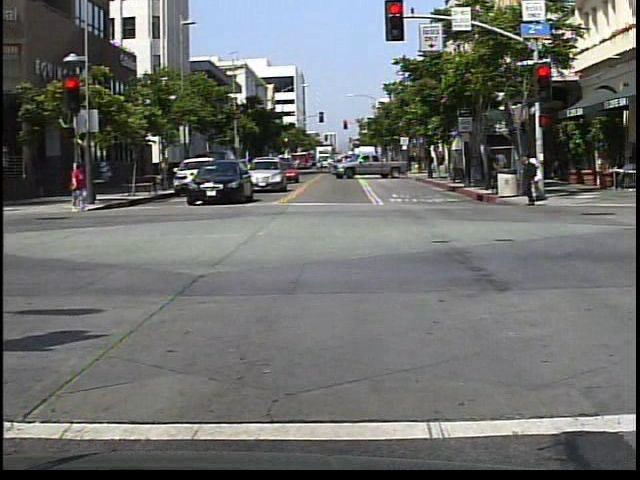person: (516, 152, 548, 210), (526, 145, 546, 201), (611, 149, 636, 193), (69, 161, 89, 216)
